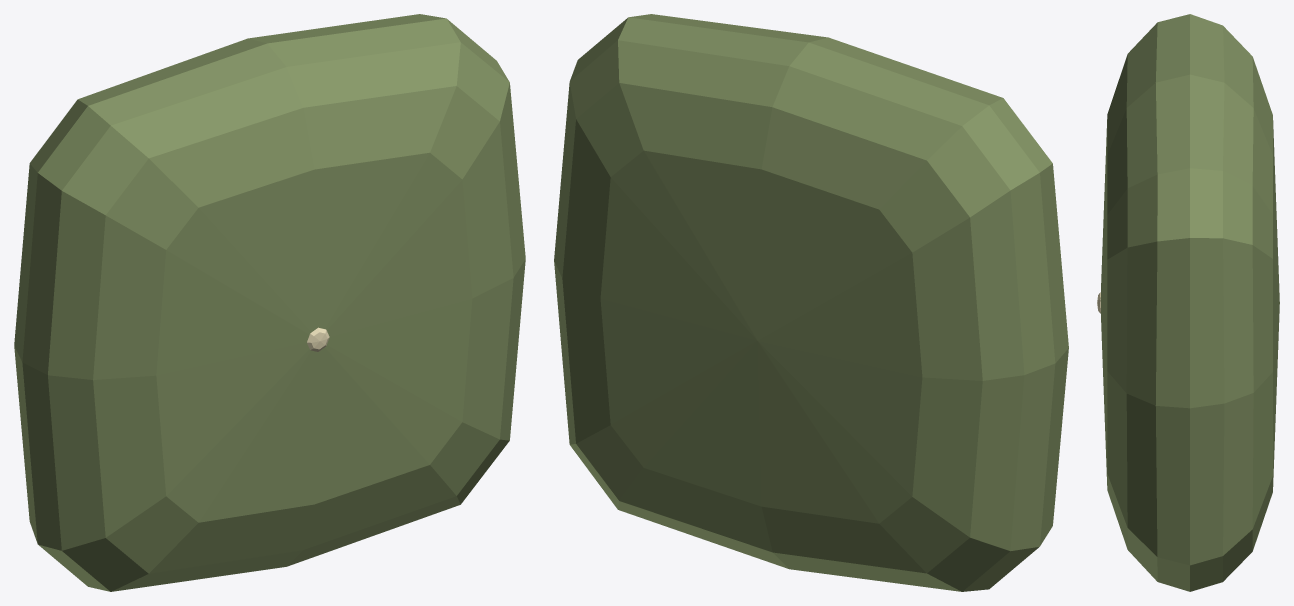
Rendered from cushion.glb.
3 renders of one model, left to right at view 1: azimuth 30°, elevation 25°; view 2: azimuth 150°, elevation 25°; view 3: azimuth 270°, elevation 25°, orthographic. The views are drawn at different scales.
Visible parts, largest first — view 1: cushion; view 2: cushion; view 3: cushion.
Part boxes in pixels (x1,y1,x2,y2): cushion: (14,14,525,591); cushion: (554,14,1068,591); cushion: (1097,14,1279,591).
Bounding box in the file's own units: 0.3 × 0.3034 × 0.11.
